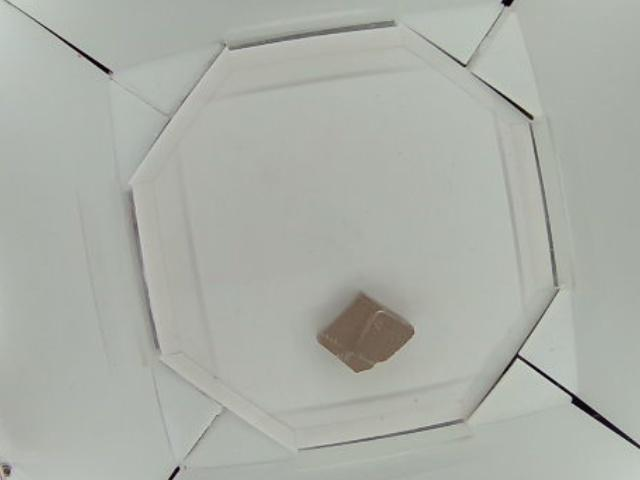China: (314, 295, 417, 371)
